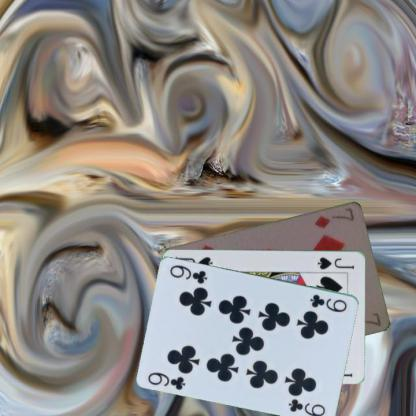7d: (312, 204, 355, 230)
9c: (146, 369, 187, 391), (308, 291, 348, 313)
Js: (315, 254, 355, 271)
